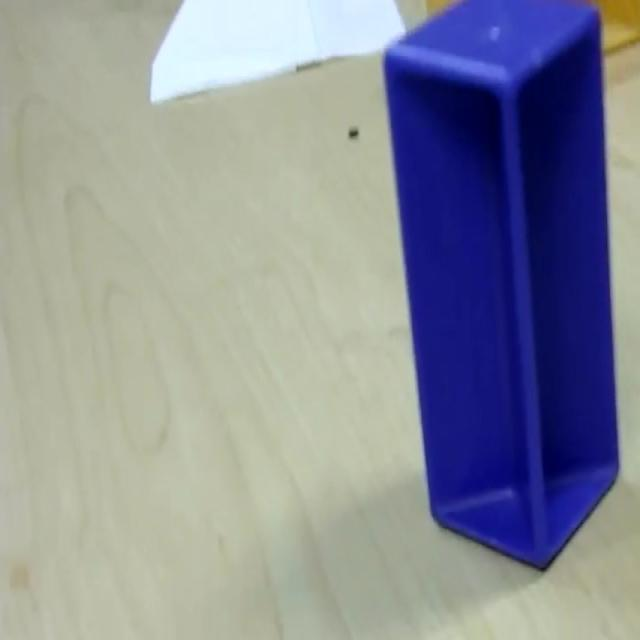blue_block: (380, 0, 620, 569)
